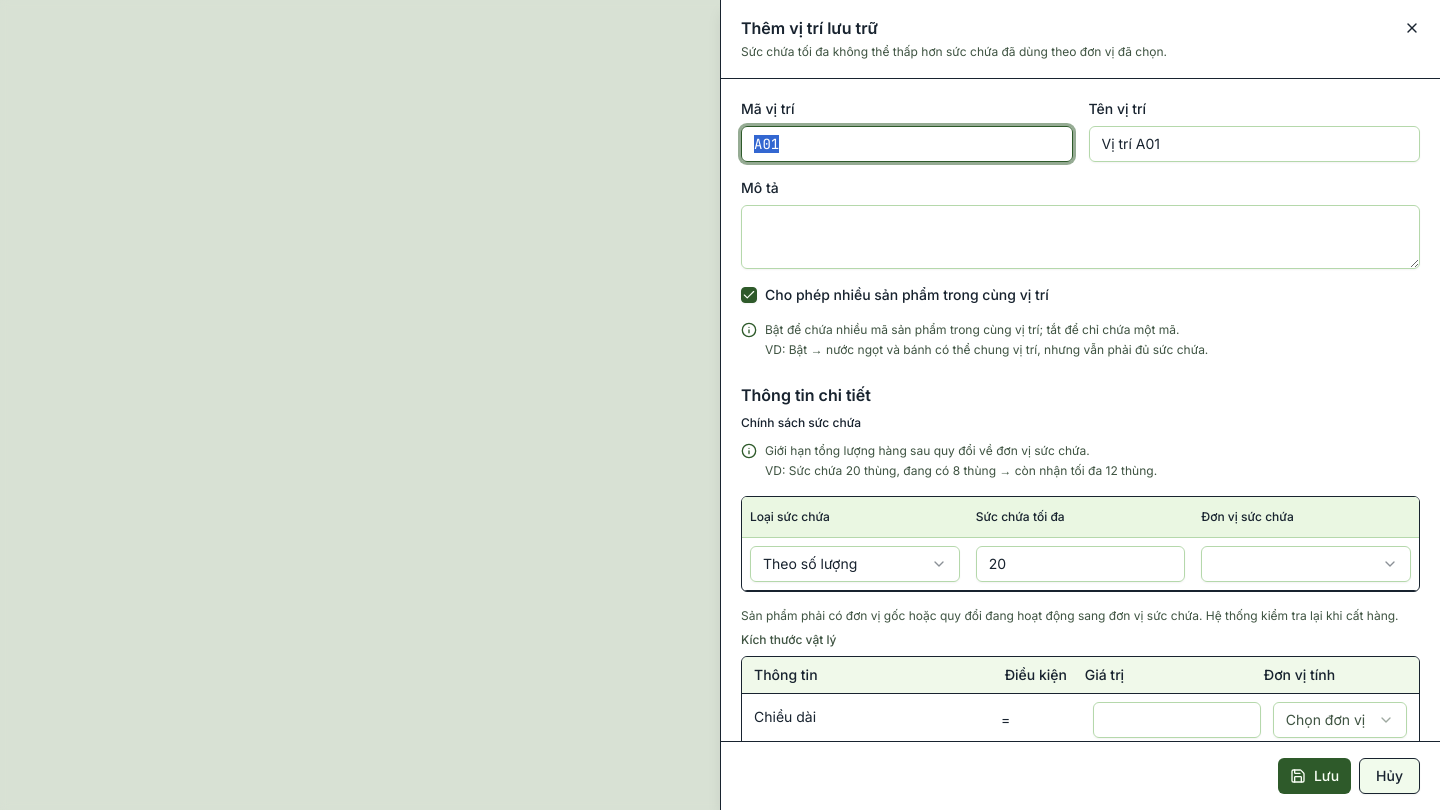
Test: location capacity fields › blocks inactive/missing capacity units and keeps values in the form
Click the button "Lưu": (1314, 776) [1278, 758, 1351, 794]
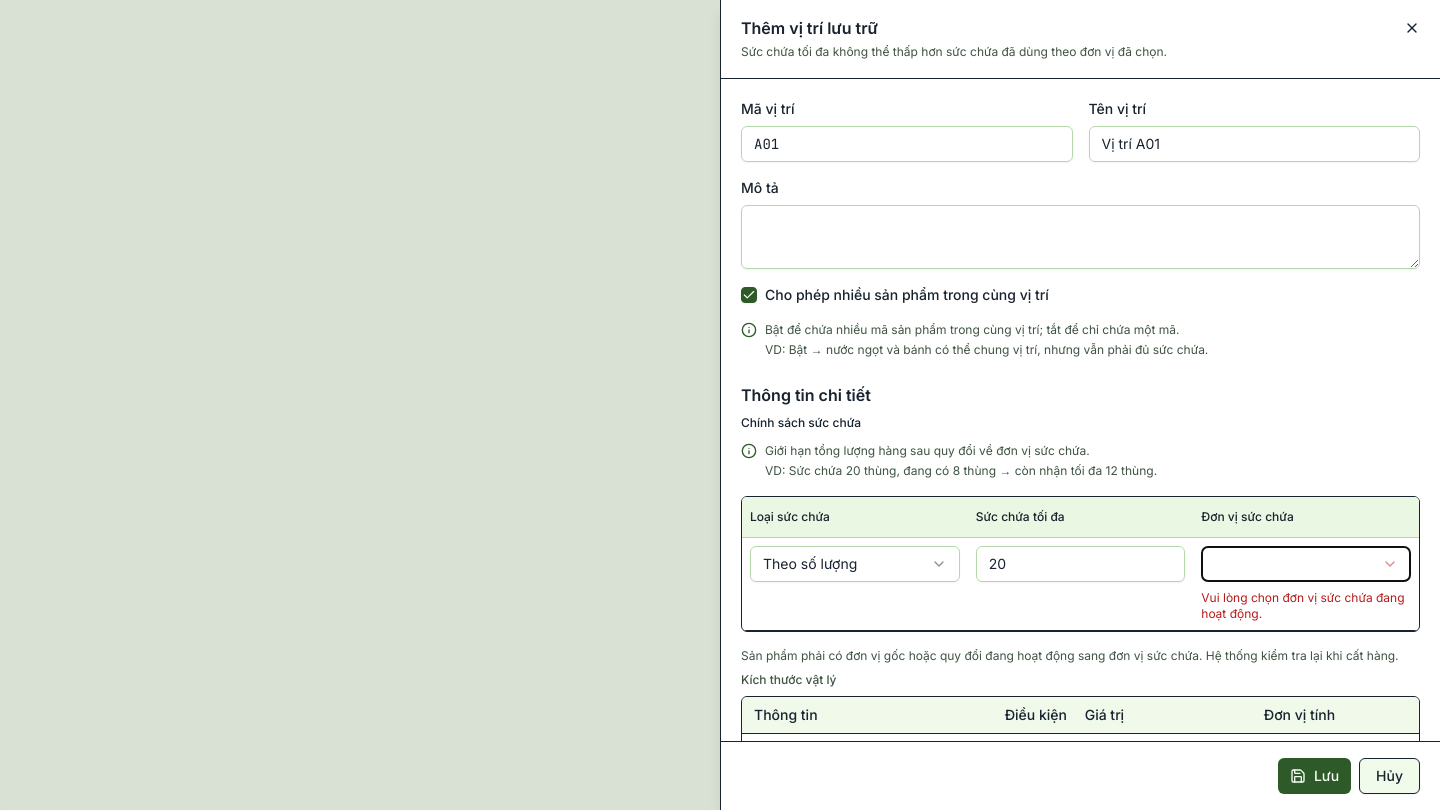
Expected: the text "Vui lòng chọn đơn vị sức chứa đang hoạt động." is shown, [1201, 590, 1411, 622]
